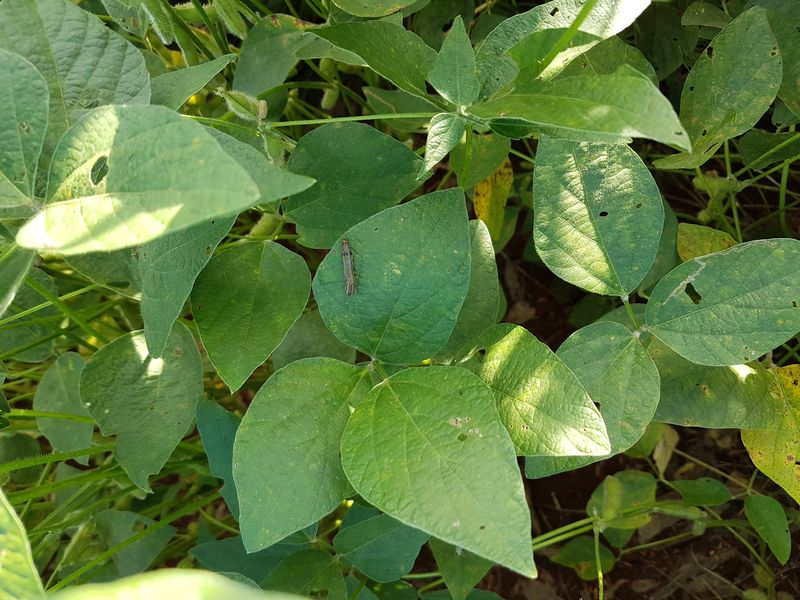Spodoptera_albula: (331, 231, 371, 301)
